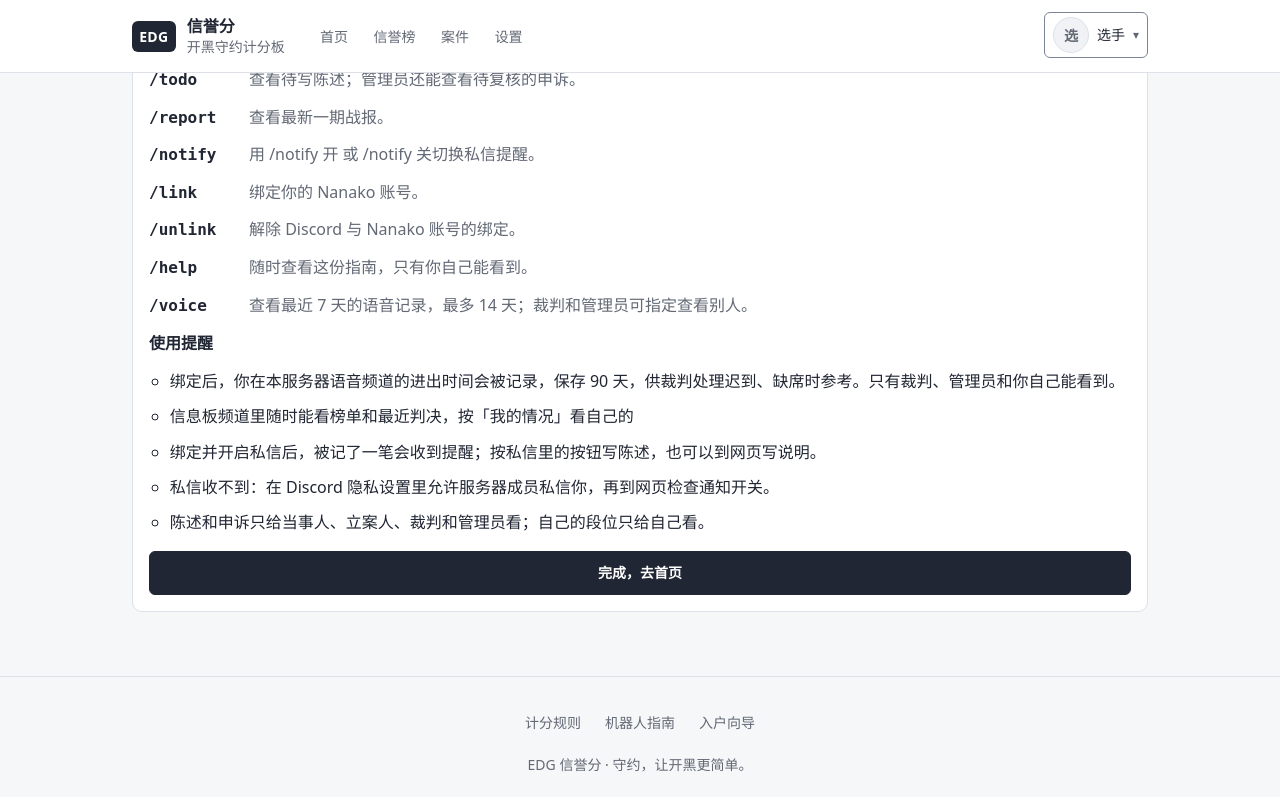
Test case: 登录回跳 — back from the login page › the welcome page goes first, then the saved address
(page scrolled)
Click the button "完成，去首页" at (640, 573), box [149,551,1131,595]
(page scrolled)
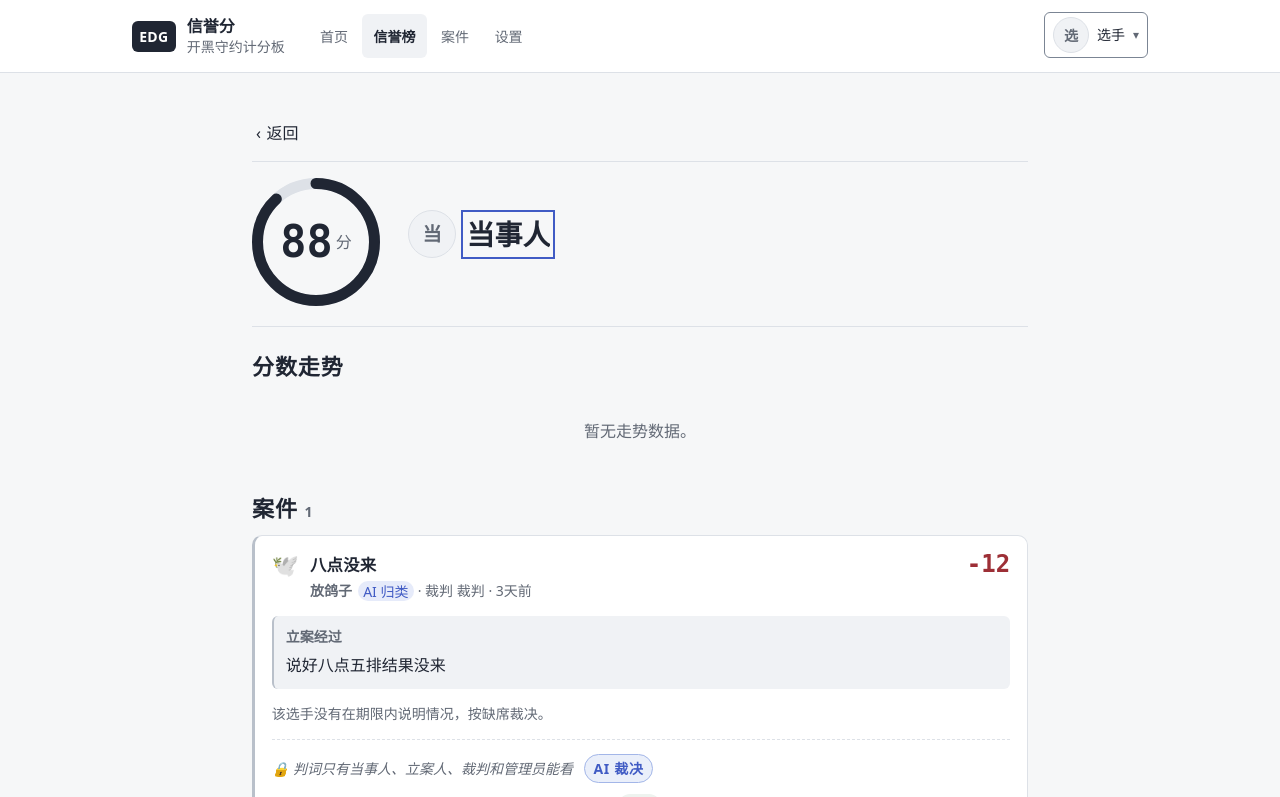
Now the heading "当事人" is shown, box [466,215,550,254]
